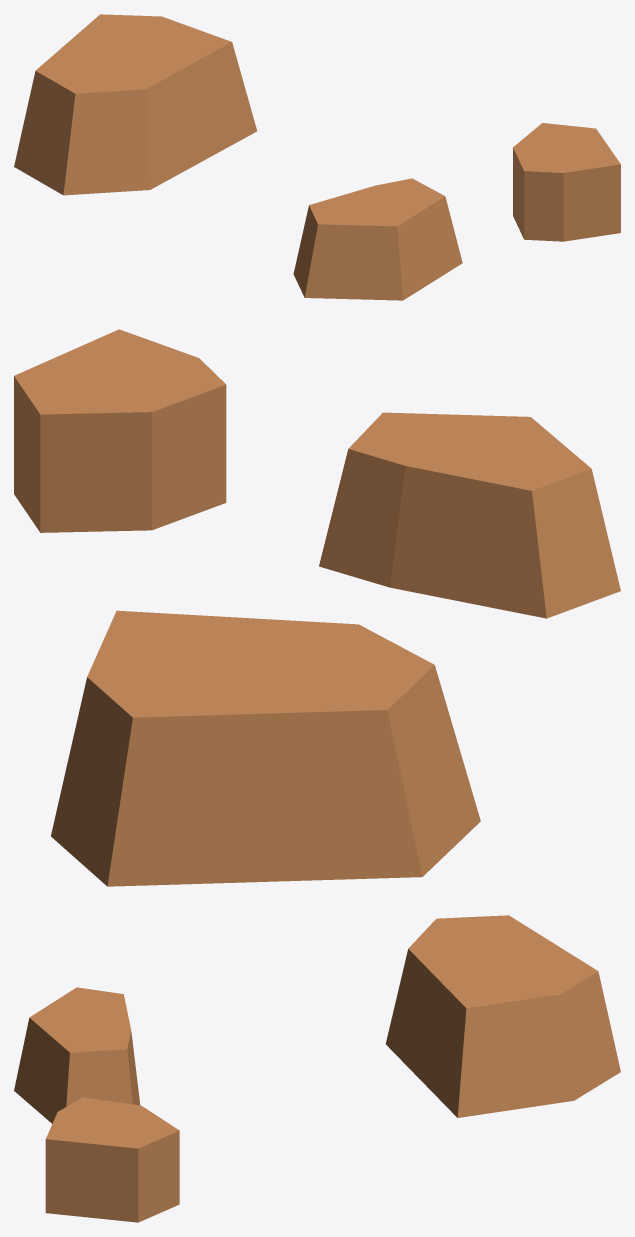
File: SandRocks19_LOD1.fbx
3 views of the same model, one above another, from view 1: azimuth 30°, elevation 25°; view 2: azimuth 150°, elevation 25°; view 3: azimuth 270°, elevation 25° (orthographic). The views are drawn at different scales.
Visible parts, largest first — view 1: Plane.165; view 2: Plane.165; view 3: Plane.165.
Part boxes in pixels (bbox=[...]): Plane.165: bbox=[14, 14, 620, 300]; Plane.165: bbox=[14, 329, 620, 886]; Plane.165: bbox=[14, 915, 620, 1222].
Bounding box in the file's own units: 33.89 × 7.55 × 40.36.
